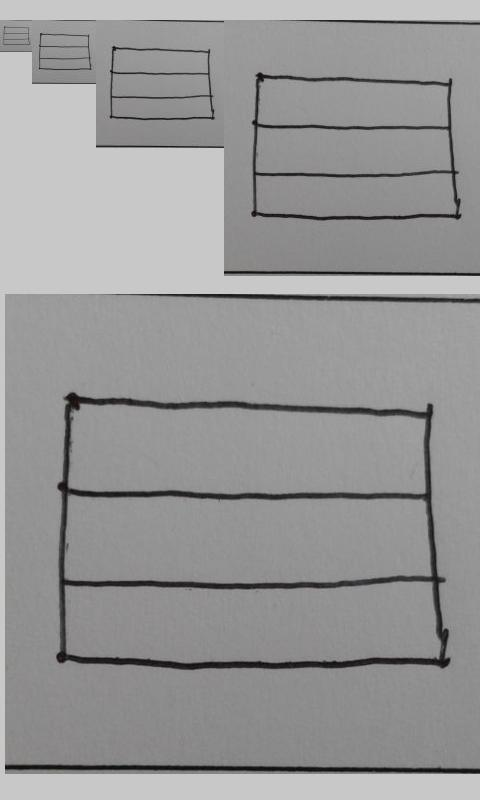list_view: (54, 390, 448, 673), (252, 72, 460, 222), (108, 44, 216, 122), (38, 33, 92, 71), (2, 26, 30, 46)
